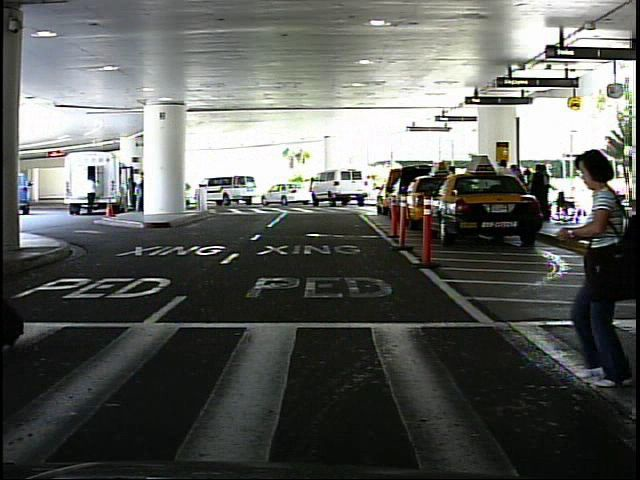person: (84, 173, 102, 218), (366, 171, 379, 204), (597, 172, 598, 218)
